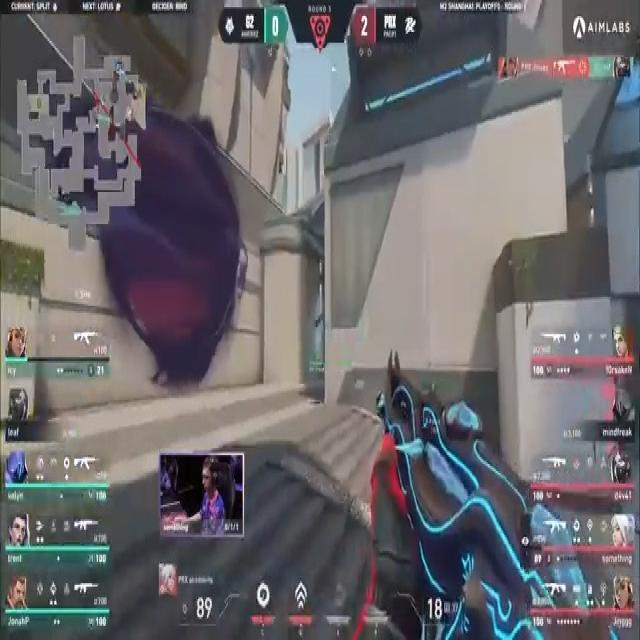smoke: (79, 118, 243, 338)
